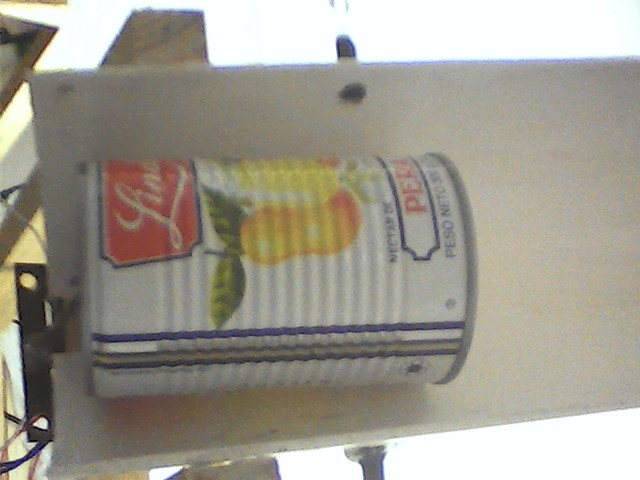lata: (70, 147, 484, 412)
